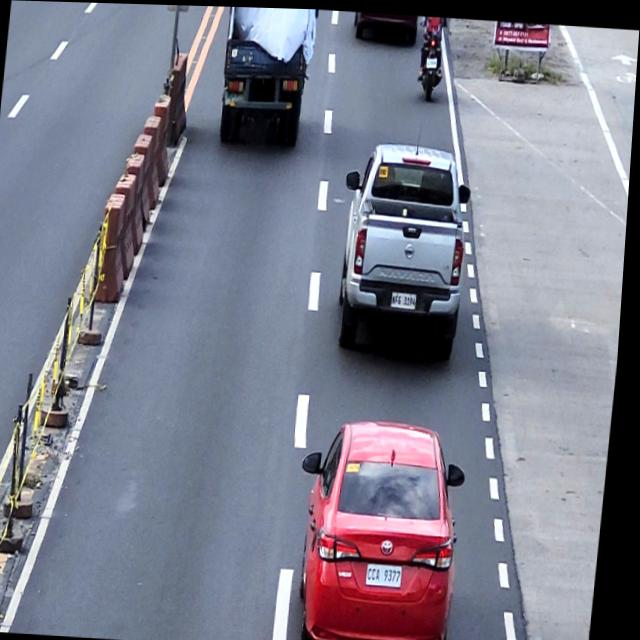Car: (291, 412, 477, 640), (333, 136, 477, 357)
License-Plate: (371, 558, 411, 585), (393, 288, 420, 307), (426, 54, 438, 65)
Motorcycle: (413, 15, 448, 98)
Truck: (217, 5, 318, 145)
